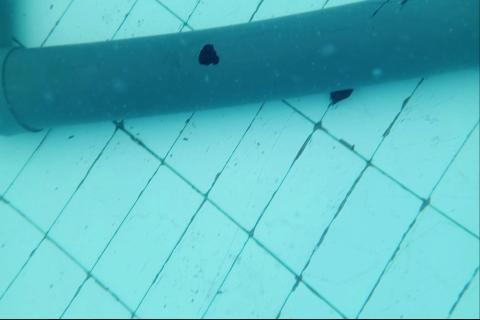kebocoran: (197, 42, 220, 67)
keretakan: (371, 0, 407, 17)
